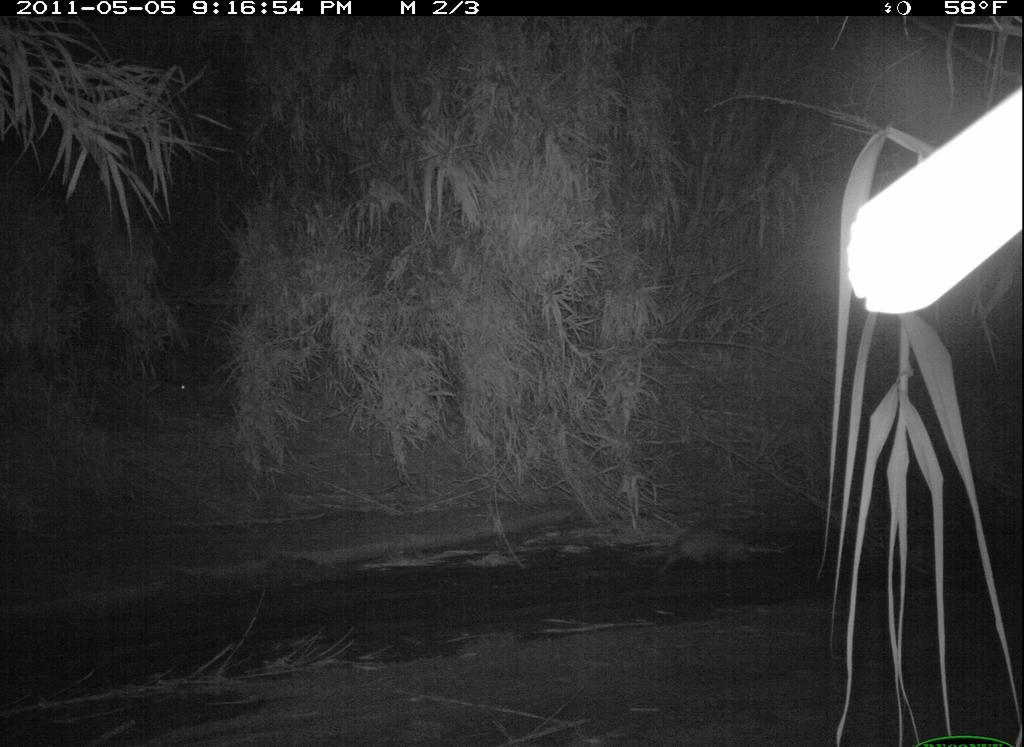opossum: (652, 514, 791, 580)
